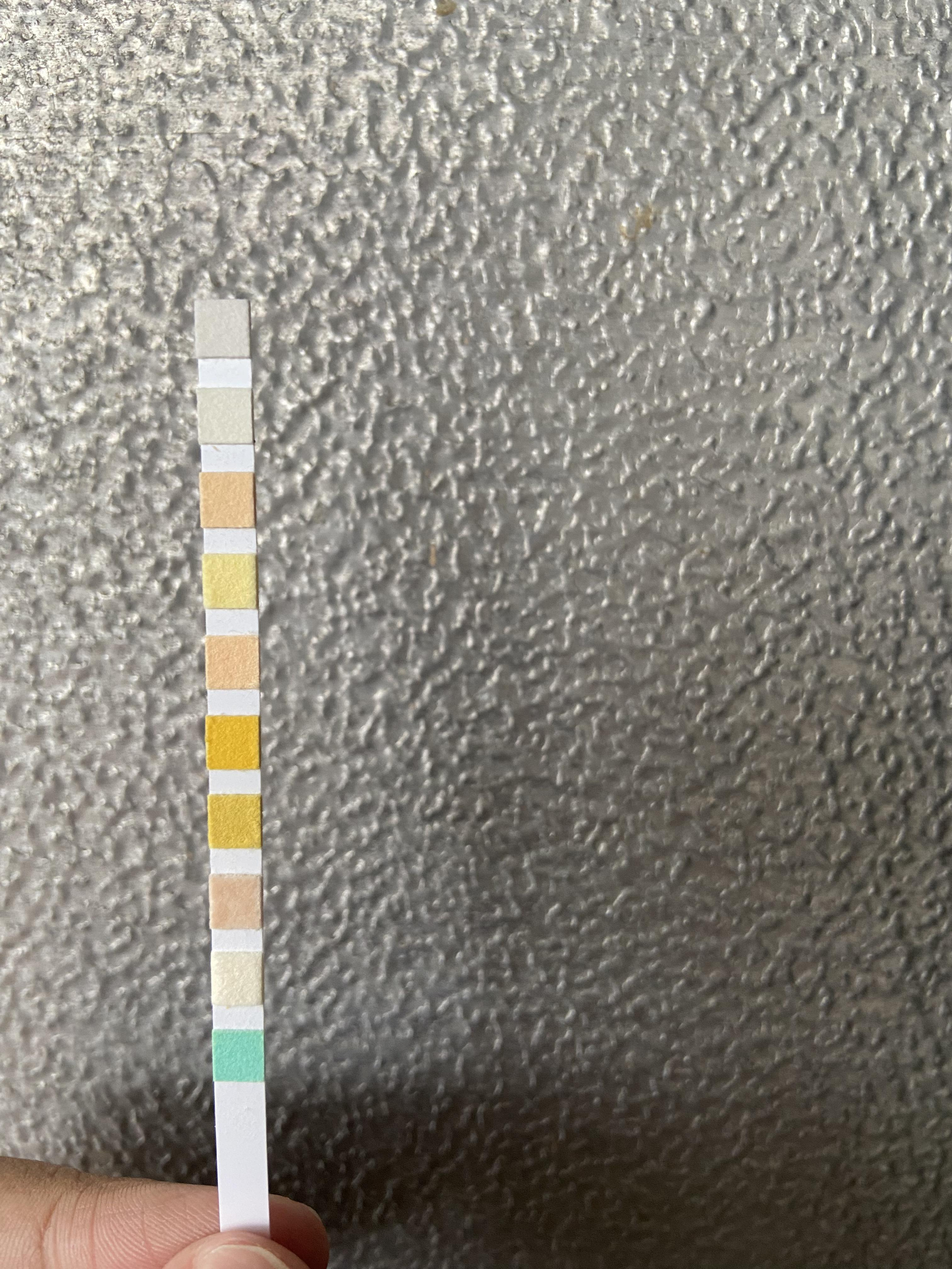Bilirubin: (212, 952, 262, 1006)
Blood: (207, 716, 259, 768)
Glucose: (213, 1031, 264, 1082)
Ketone: (209, 877, 261, 929)
Leukocytes: (196, 301, 249, 356)
Nitrite: (198, 388, 252, 444)
Protein: (204, 555, 256, 608)
SpGravity: (208, 796, 260, 847)
Urobilinogen: (201, 473, 254, 528)
pH: (207, 635, 258, 689)
strip: (197, 299, 270, 1227)
